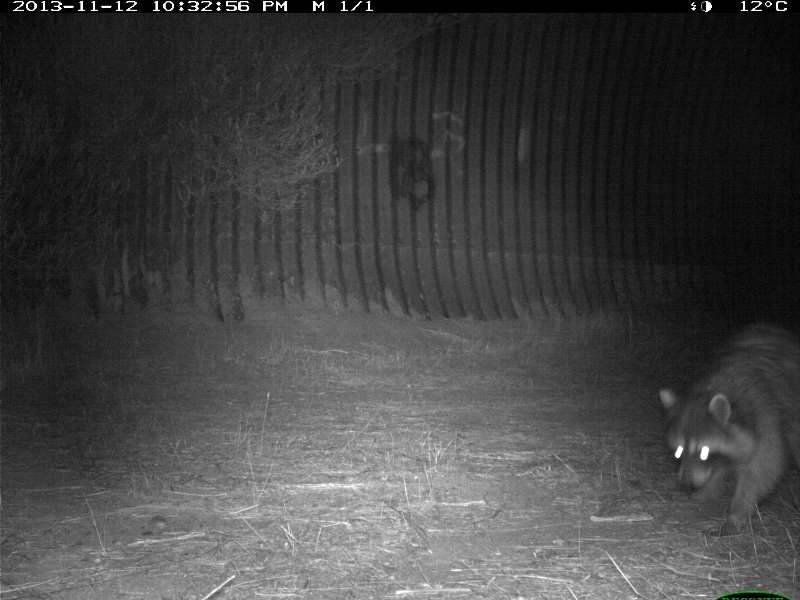raccoon: (658, 319, 800, 537)
